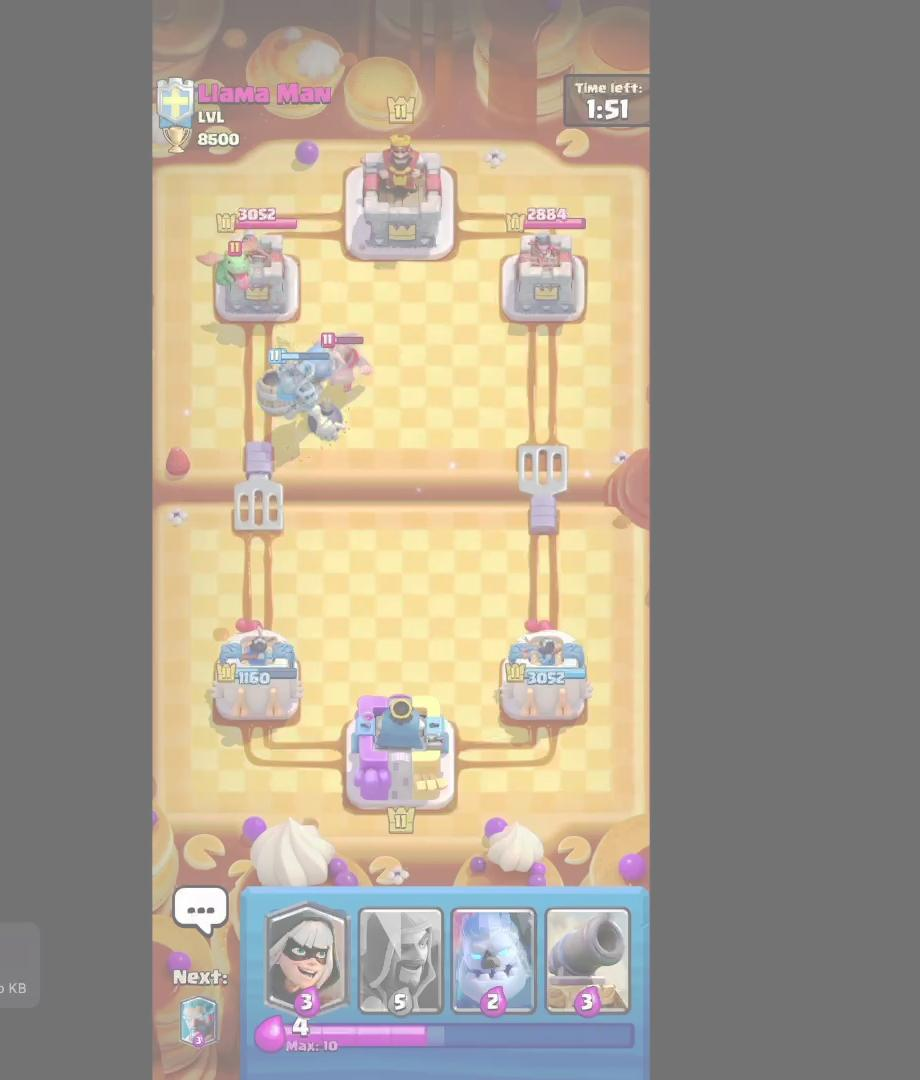Baby Dragon: (196, 236, 286, 303)
Knight: (310, 316, 374, 397)
